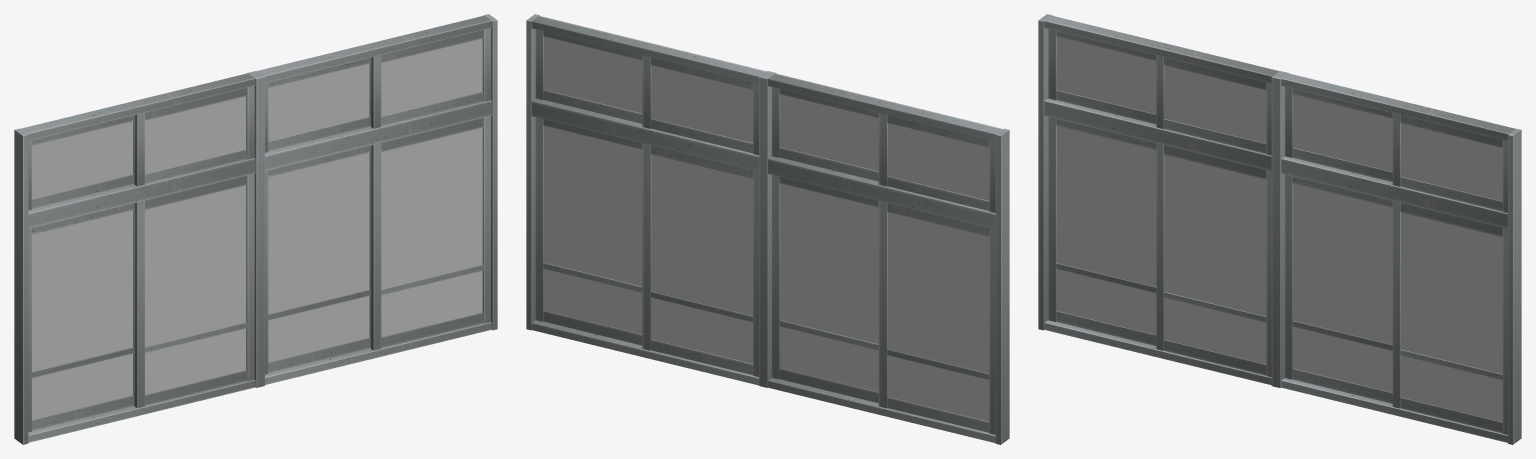
Rendered from bil_window_b2_2b.fbx.
The picture shows the model from 3 angles, left to right: view 1: azimuth 30°, elevation 25°; view 2: azimuth 150°, elevation 25°; view 3: azimuth 330°, elevation 25°; orthographic projection.
Parts seen in each view (by area): view 1: bil_window_b2_2b; view 2: bil_window_b2_2b; view 3: bil_window_b2_2b.
Part boxes in pixels (left/top/right/bottom): bil_window_b2_2b: left=14, top=14, right=497, bottom=444; bil_window_b2_2b: left=526, top=14, right=1009, bottom=444; bil_window_b2_2b: left=1038, top=14, right=1521, bottom=444.
Bounding box in the file's own units: 365 × 227 × 11.68.
